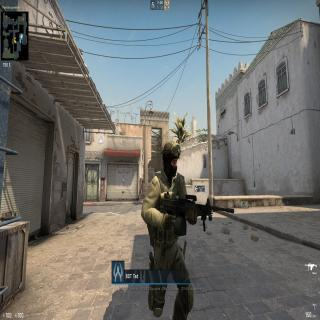CT-Head: (161, 137, 182, 179)
